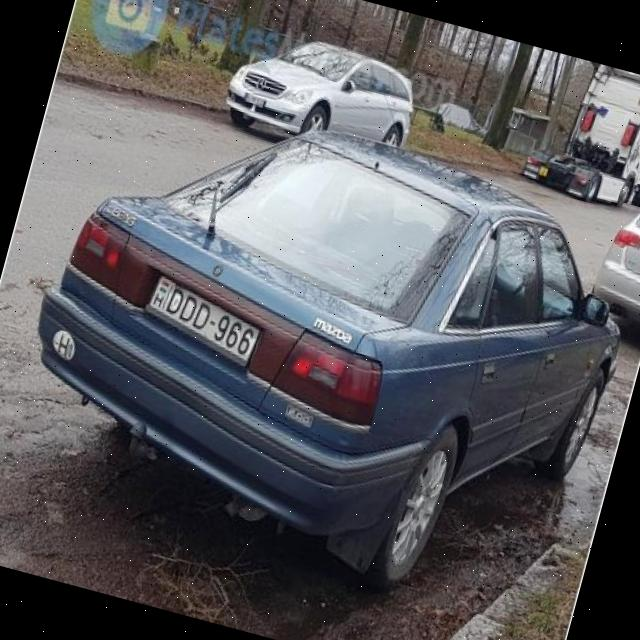licence: (130, 262, 271, 383)
